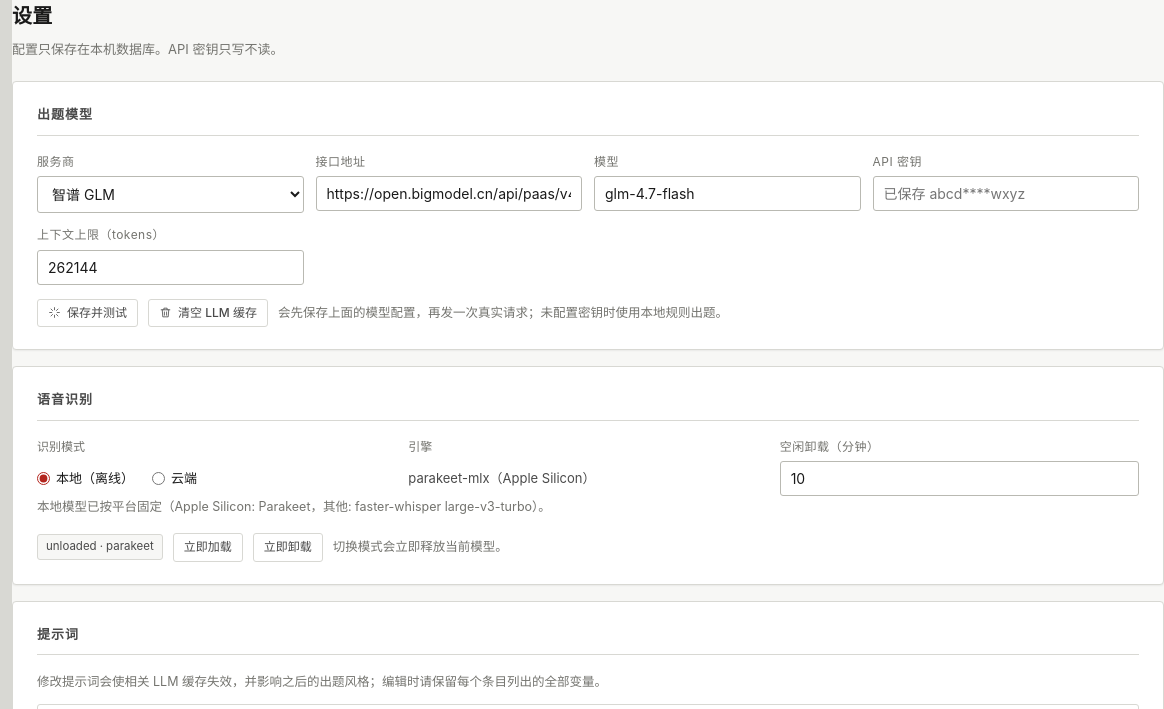
Scenario: SettingsView › cloud mode shows base URL / model / key inputs, preset select, test button and privacy notice
Click the radio button labelled "云端": (158, 478) [152,472,165,485]
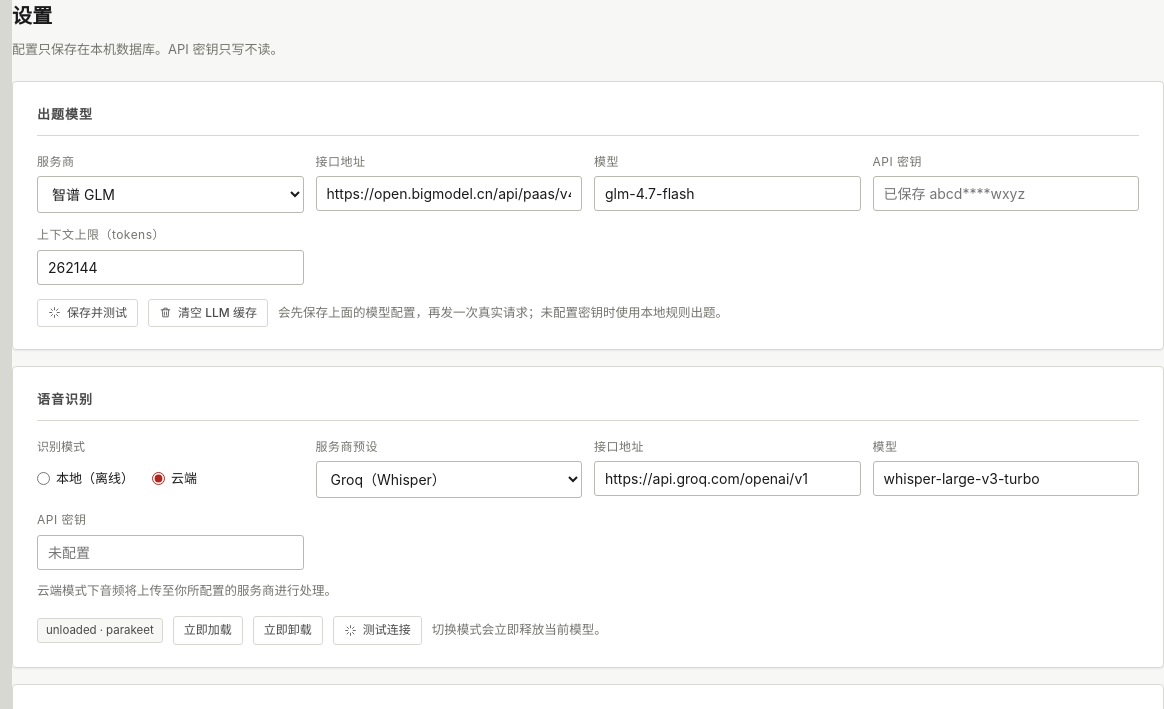
Now the dropdown labelled "服务商预设" is shown, box [316,461,582,498]
Now the number of password fields is 2, box [872,176,1139,211]; [37,534,304,570]
Now the button "测试连接" is shown, box [333,616,422,645]
